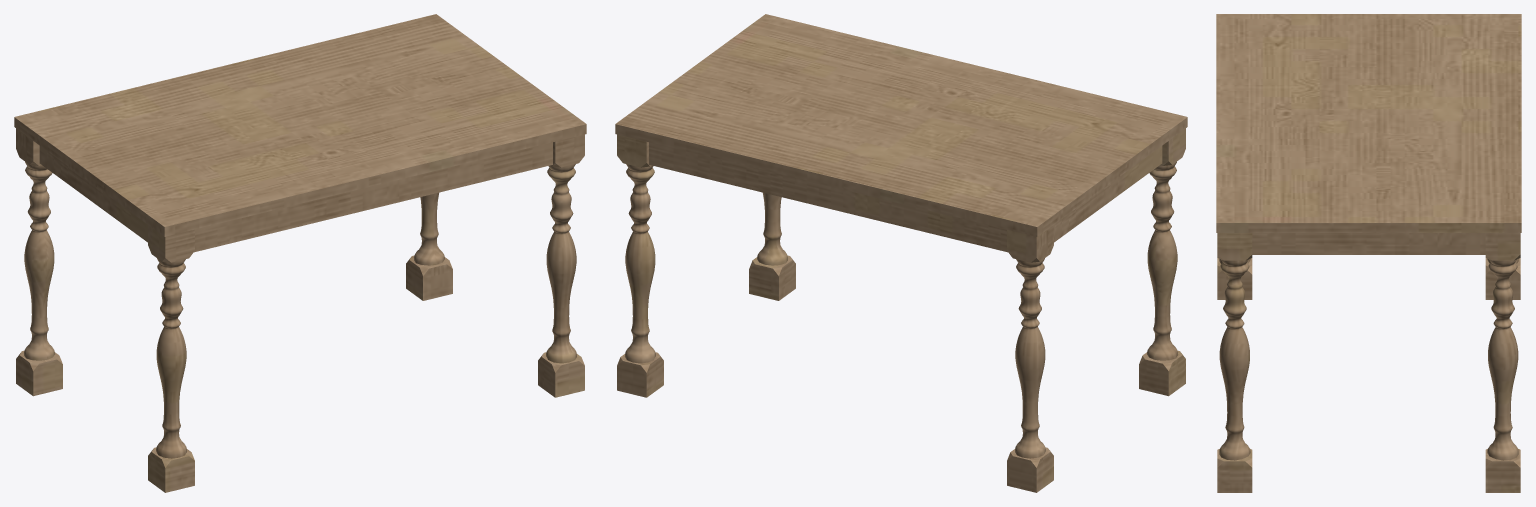
Rendered from Table14.glb.
3 renders of one model, left to right at view 1: azimuth 30°, elevation 25°; view 2: azimuth 150°, elevation 25°; view 3: azimuth 270°, elevation 25°, orthographic.
Visible parts, largest first — view 1: Table14_model; view 2: Table14_model; view 3: Table14_model.
Boxes of the visible parts, bbox=[...] form: Table14_model: bbox=[14, 14, 586, 492]; Table14_model: bbox=[615, 14, 1187, 492]; Table14_model: bbox=[1216, 14, 1521, 492].
Bounding box in the file's own units: 2.64 × 1.59 × 1.63.
1 material, 1 textured.
